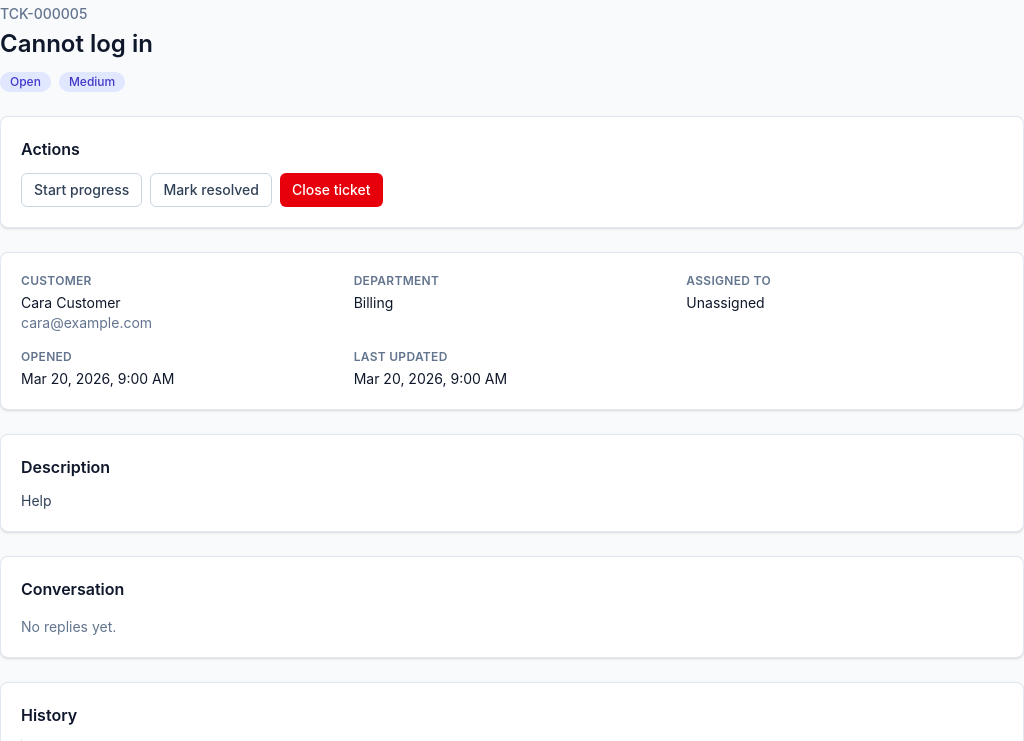
Test: TicketActions › status › applies a change and refreshes the ticket, the moves and the history from the response
What coordinates should you click on to do the following:
click the button "Start progress"
I would click on:
 (82, 190)
Its box is [21,173,142,207].
(page scrolled)
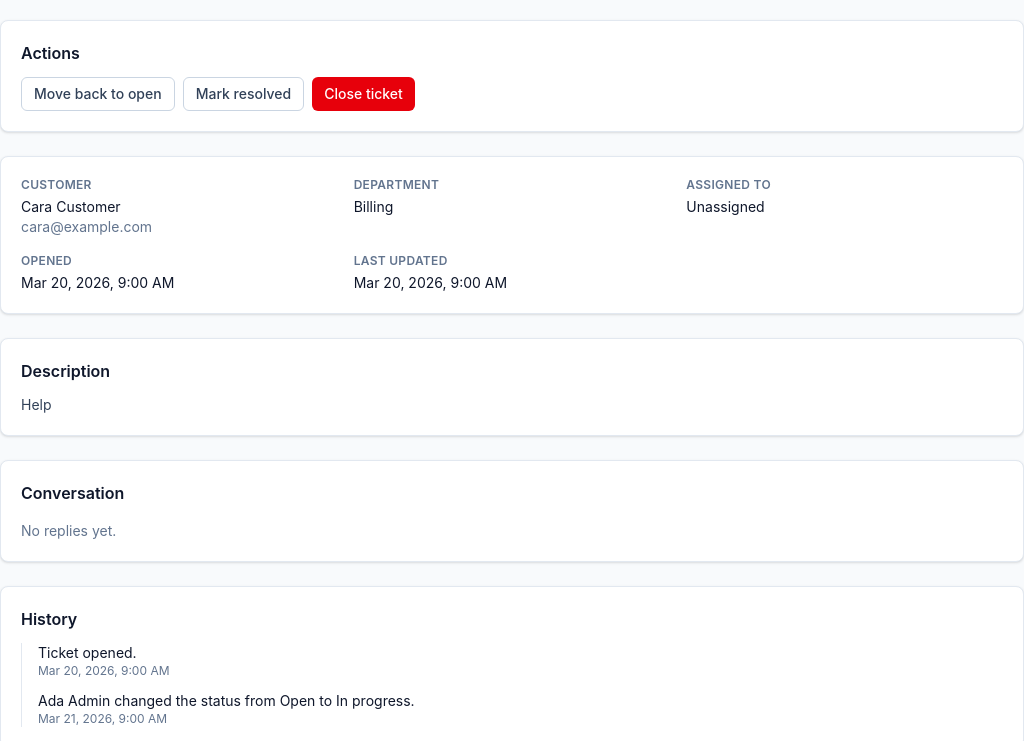
Check: the text "Ada Admin changed the status from Open to In progress." is shown, box [38,692,415,709]
